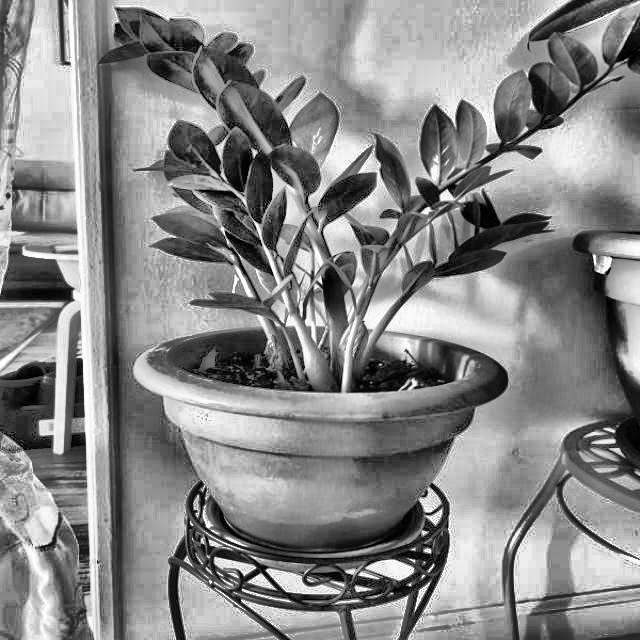plants: (87, 0, 607, 576)
